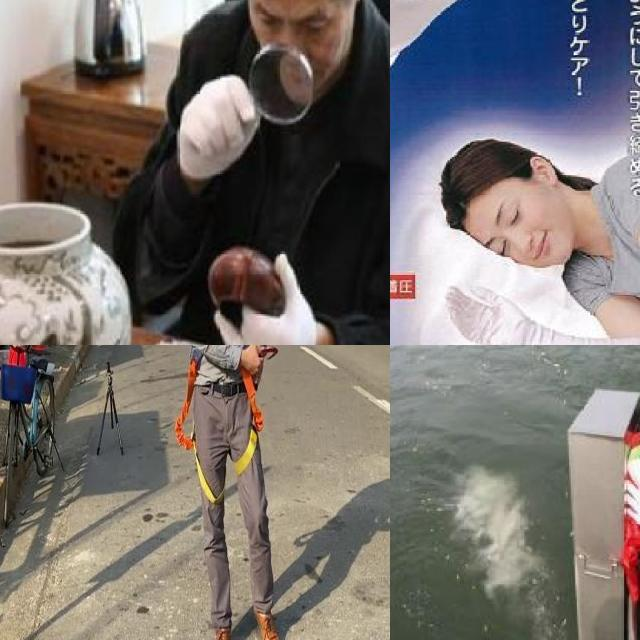Harness: (175, 352, 224, 504), (235, 369, 265, 476)
No_Ear-Protection: (528, 152, 560, 188)
No_Glasses: (486, 197, 524, 259)
face_nomask: (249, 0, 331, 94), (475, 192, 568, 274)
hand_glove: (212, 252, 308, 345), (178, 72, 258, 179), (447, 286, 532, 345), (621, 467, 640, 526)
head_nohelmet: (442, 129, 522, 214)
person: (151, 0, 390, 345), (412, 117, 640, 345)
